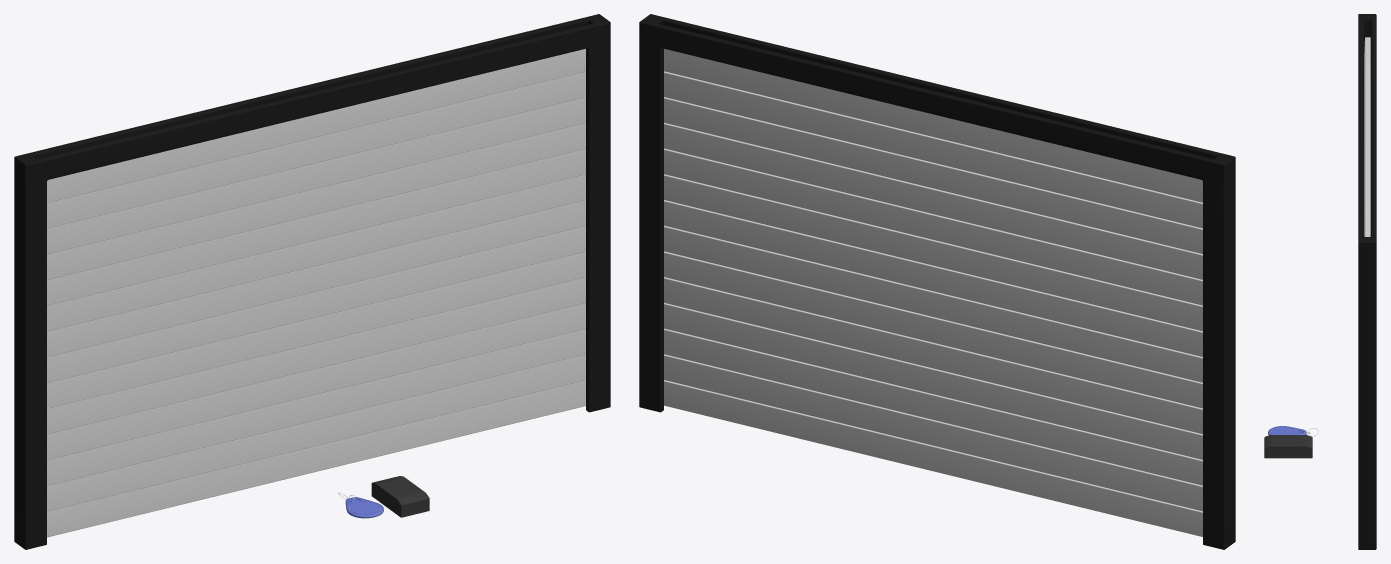
Rendered from Garage Door.glb.
3 renders of one model, left to right at view 1: azimuth 30°, elevation 25°; view 2: azimuth 150°, elevation 25°; view 3: azimuth 270°, elevation 25°, orthographic. The views are drawn at different scales.
Visible parts, largest first — view 1: Gate, Cube.004, Cube; view 2: Gate, Cube.004; view 3: Cube.004, Gate, Cube, Remote.
Boxes of the visible parts, x1,y1,x2,y2 form: Gate: (47,48,585,537); Cube.004: (14,14,610,549); Cube: (371,476,429,517); Gate: (664,48,1202,536); Cube.004: (639,14,1235,549); Cube.004: (1358,14,1376,549); Gate: (1364,37,1370,236); Cube: (1264,435,1312,458); Remote: (1268,426,1306,435).
Size of the model in its own units: 1.9 by 1.2 by 0.3946.
